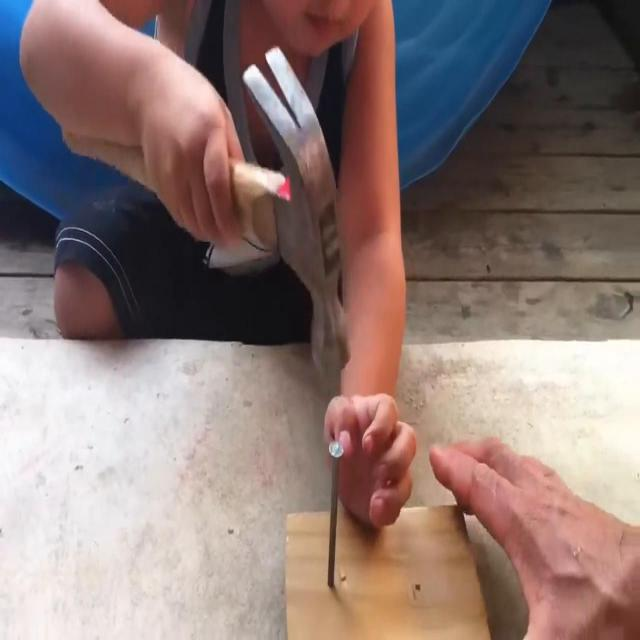hammer: (63, 46, 351, 372)
